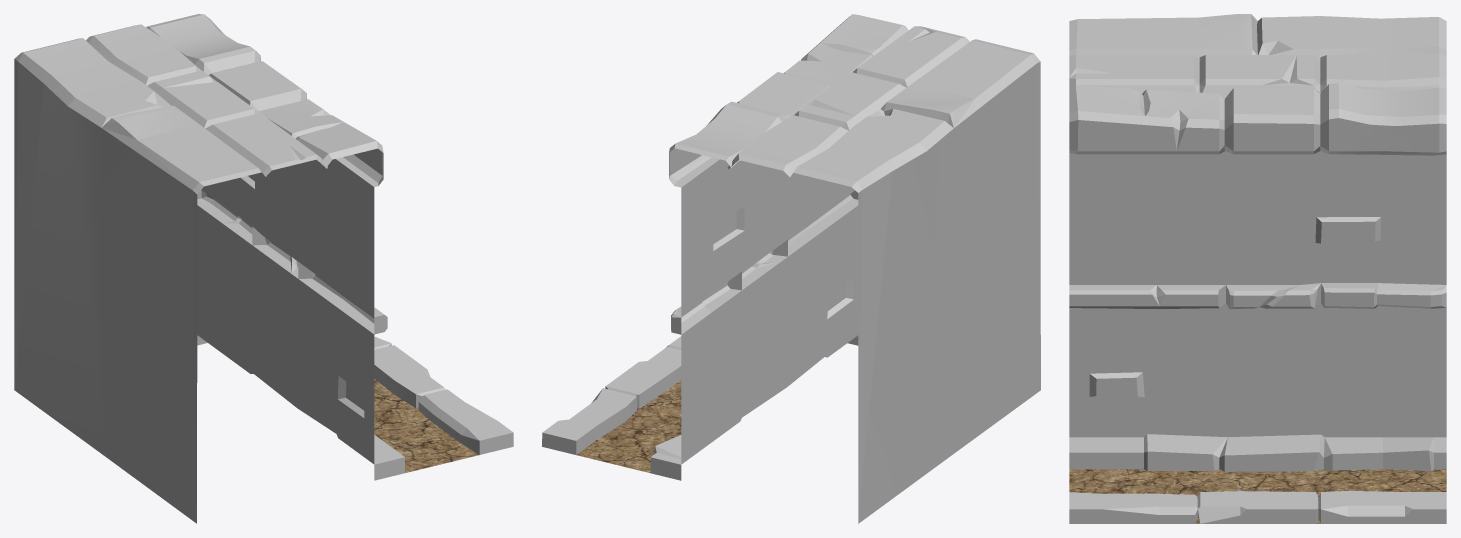
Rendered from A_edge_tile.fbx.
3 views of the same model, side by side, from view 1: azimuth 30°, elevation 25°; view 2: azimuth 150°, elevation 25°; view 3: azimuth 270°, elevation 25° (orthographic). The views are drawn at different scales.
Visible parts, largest first — view 1: edge; view 2: edge; view 3: edge.
Part boxes in pixels (x1,y1,x2,y2): edge: (14, 14, 513, 523); edge: (542, 14, 1040, 523); edge: (1069, 14, 1446, 523).
Size of the model in its own units: 1.02 by 1.03 by 1.
